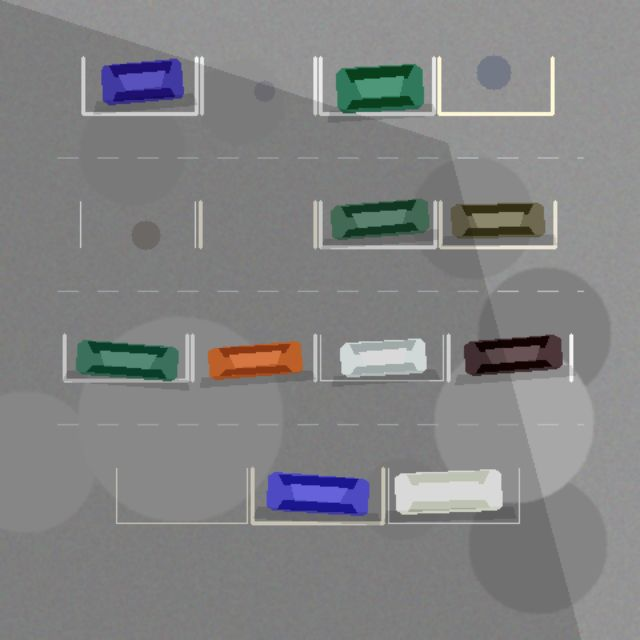space-empty: (116, 468, 247, 523), (201, 57, 315, 113), (439, 57, 552, 113), (80, 201, 195, 247), (200, 201, 315, 247)
space-occupied: (252, 468, 383, 523), (388, 468, 519, 523), (83, 57, 196, 113), (320, 57, 433, 113), (64, 335, 187, 380), (192, 335, 315, 380), (320, 335, 443, 380), (448, 335, 571, 380), (320, 201, 435, 247), (440, 201, 555, 247)
